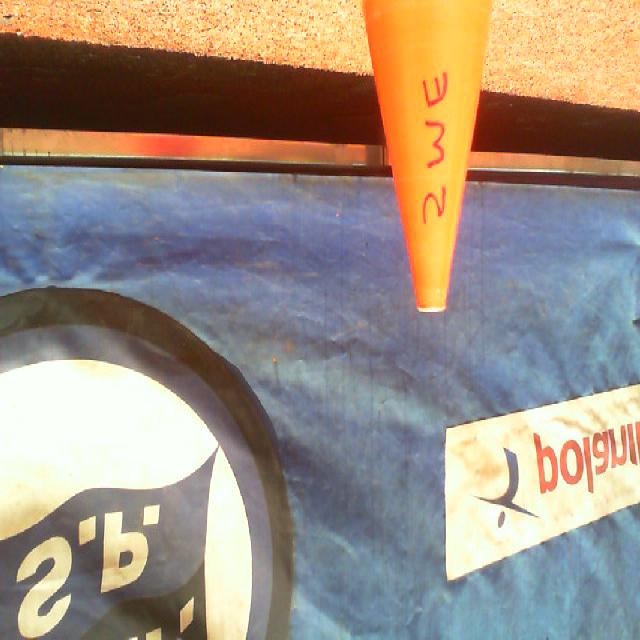cone: (360, 0, 494, 312)
